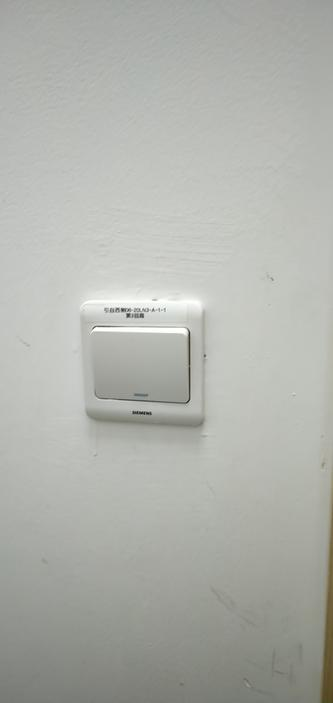switch: (89, 322, 200, 407)
